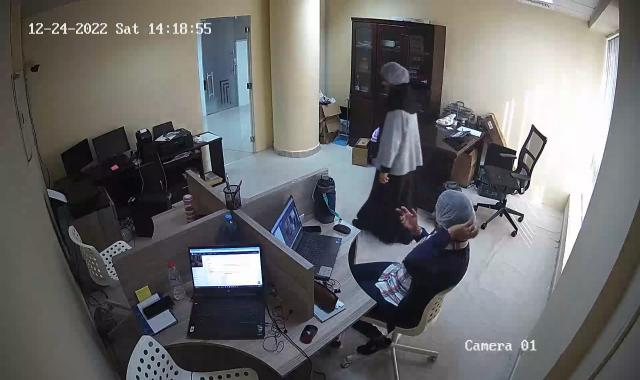hairnet: (431, 185, 480, 227), (378, 63, 408, 93)
